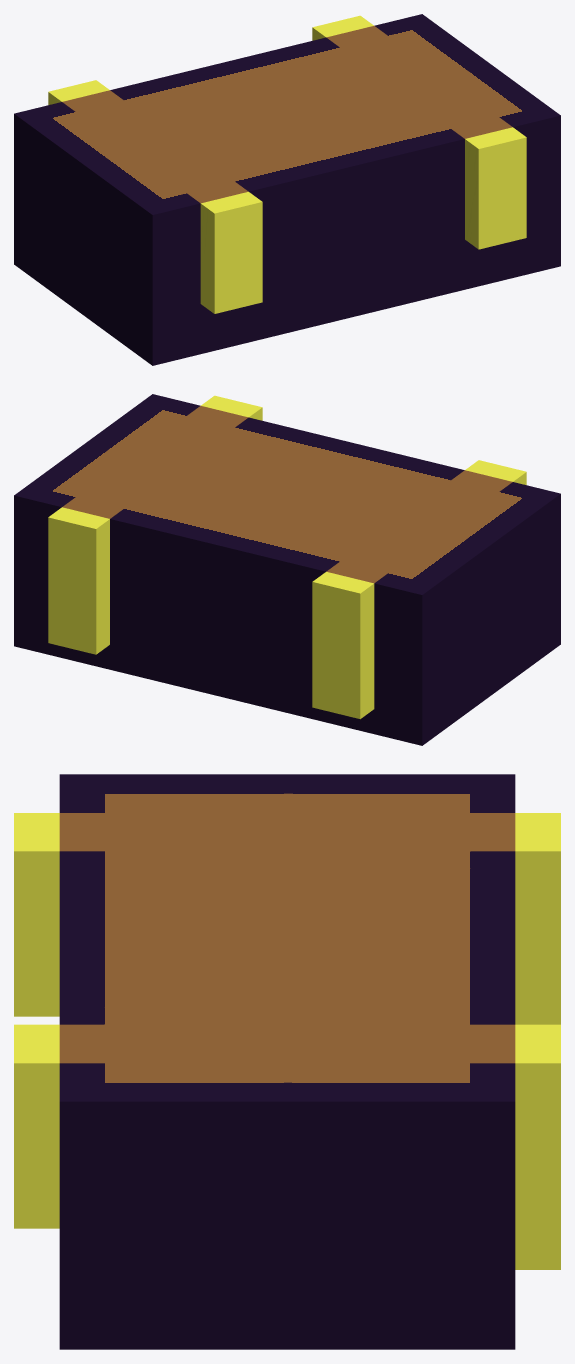
File: shop_chest_down.dae
The picture shows the model from 3 angles, top to bottom: view 1: azimuth 30°, elevation 25°; view 2: azimuth 150°, elevation 25°; view 3: azimuth 270°, elevation 25°; orthographic projection. The views are drawn at different scales.
Visible parts, largest first — view 1: shop_chest_down.shop_payin; view 2: shop_chest_down.shop_payin; view 3: shop_chest_down.shop_payin.
Boxes of the visible parts, box(x1,y1,x2,y2) form: shop_chest_down.shop_payin: box(14, 14, 560, 365); shop_chest_down.shop_payin: box(14, 394, 560, 745); shop_chest_down.shop_payin: box(14, 774, 560, 1349).
Bounding box in the file's own units: 1.7 × 1.2 × 0.6.
1 material, 1 textured.
